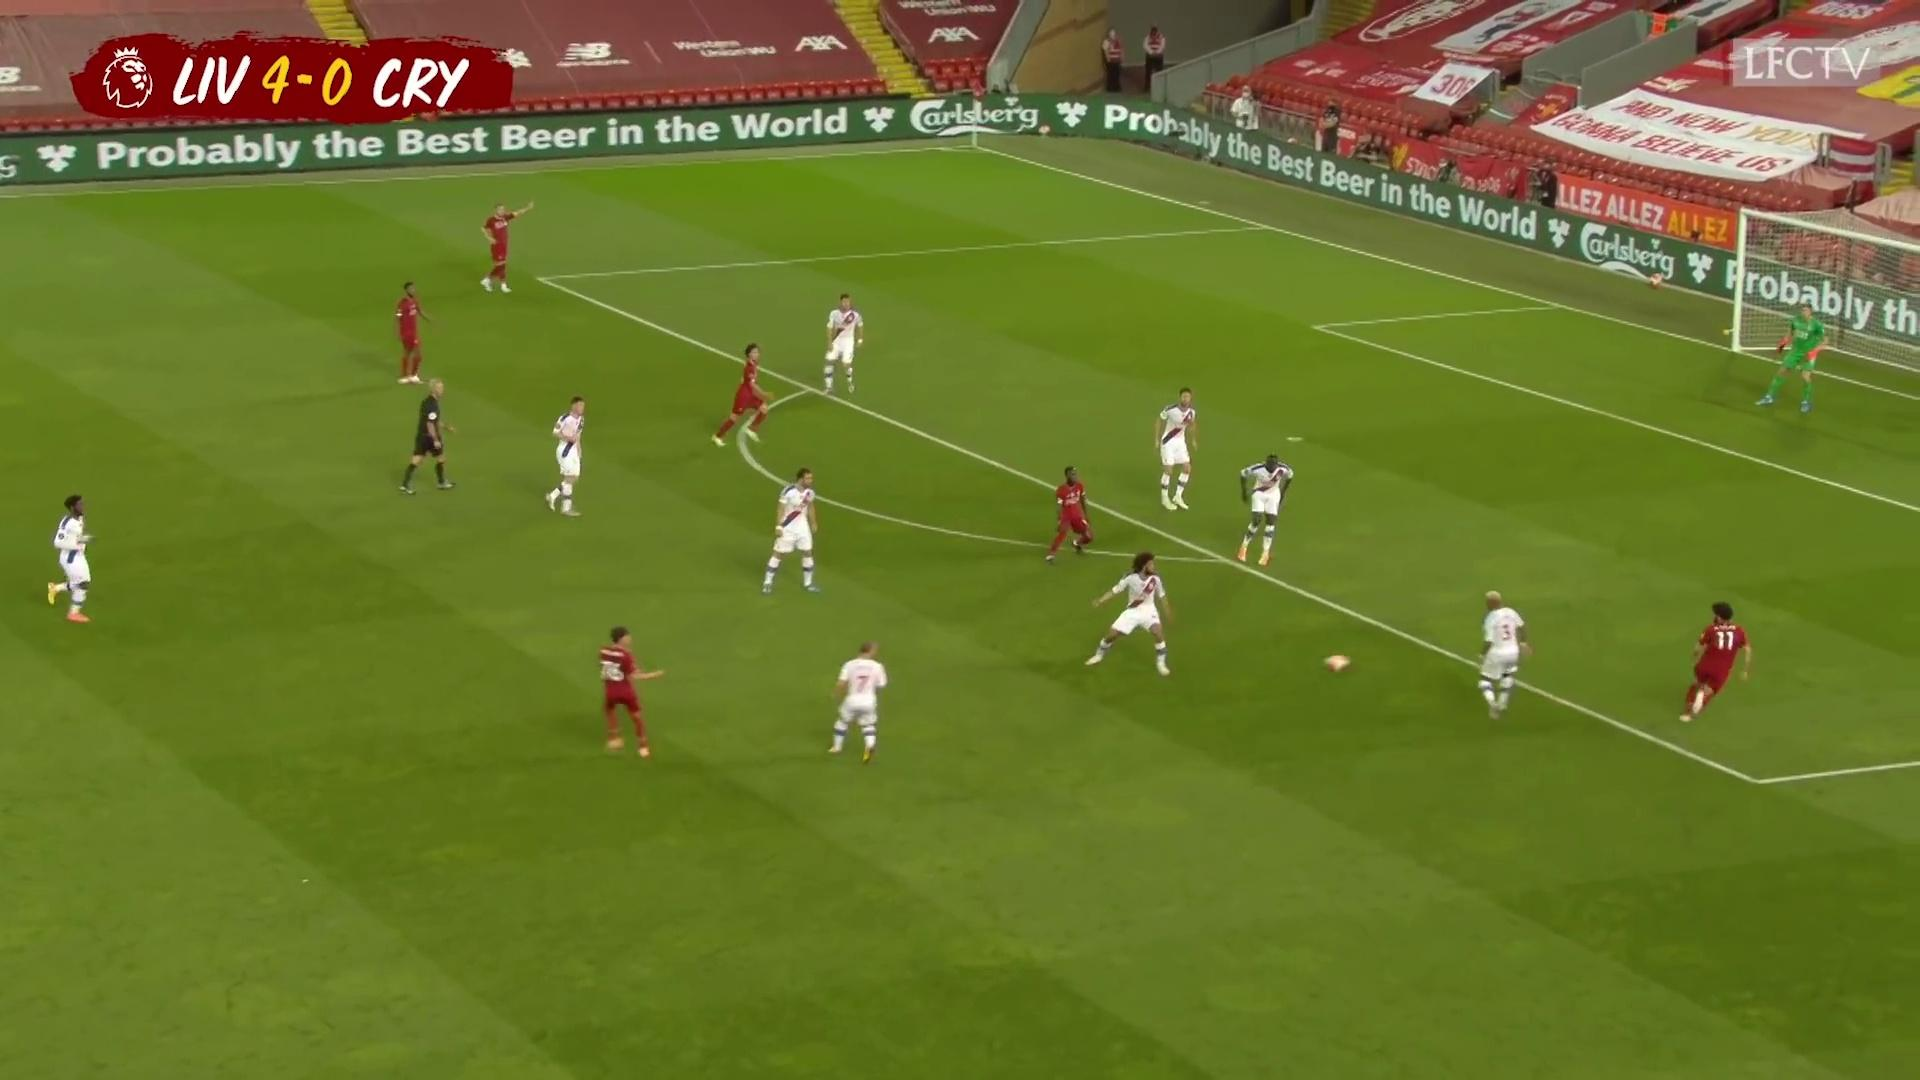ball: (1323, 650, 1354, 677)
goalkeeper: (1754, 297, 1832, 414)
player: (1085, 552, 1182, 683), (1672, 596, 1752, 730), (755, 467, 825, 601), (598, 623, 664, 763), (1470, 590, 1533, 726), (824, 637, 890, 766), (1234, 446, 1300, 568), (46, 494, 101, 631), (712, 340, 776, 450), (1154, 384, 1206, 518), (540, 392, 589, 519), (1037, 465, 1098, 567), (478, 199, 536, 300), (816, 292, 868, 403), (393, 278, 435, 389), (314, 0, 390, 43)
referee: (399, 378, 460, 498)
